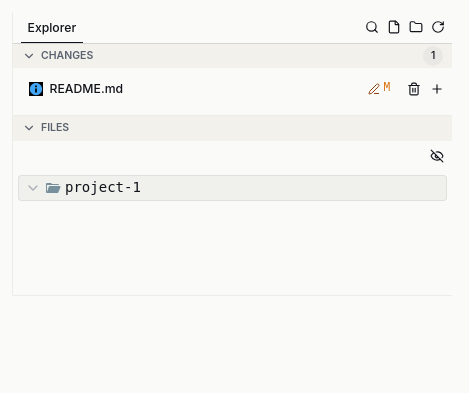
Scenario: ContextWorkbench › applies mutation responses immediately and coalesces the echoed SSE invalidation
The image size is (469, 393).
Expected: the text "README.md" is shown, [50,81,123,96]
Click the button named "Stage: README.md" at (436, 89), box [426,78,447,100]
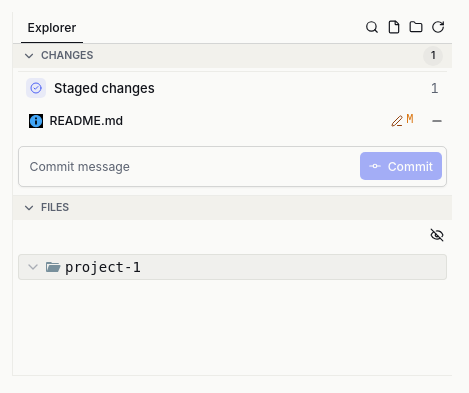
Expected: the text "Staged changes" is shown, [54,80,155,96]
